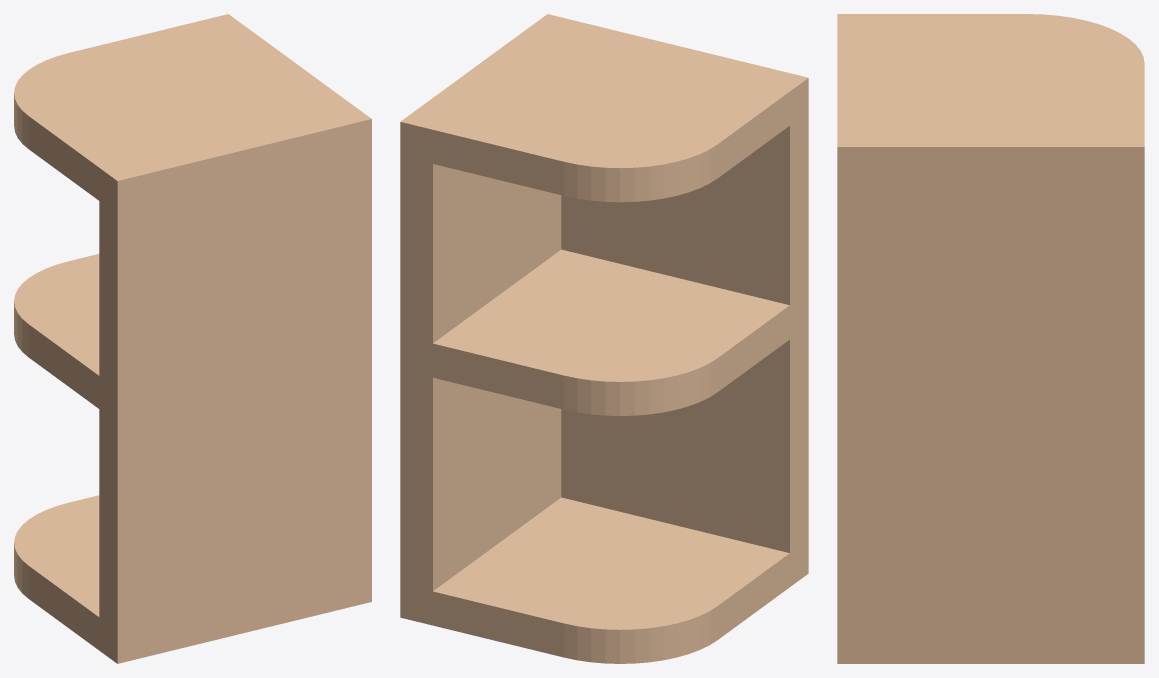
File: round-cabinet.fbx
The picture shows the model from 3 angles, left to right: view 1: azimuth 30°, elevation 25°; view 2: azimuth 150°, elevation 25°; view 3: azimuth 270°, elevation 25°; orthographic projection. The views are drawn at different scales.
Visible parts, largest first — view 1: kitchenCabinetUpperCorner; view 2: kitchenCabinetUpperCorner; view 3: kitchenCabinetUpperCorner.
Boxes of the visible parts, x1,y1,x2,y2 form: kitchenCabinetUpperCorner: (14, 14, 371, 663); kitchenCabinetUpperCorner: (400, 14, 808, 663); kitchenCabinetUpperCorner: (837, 14, 1144, 663).
Bounding box in the file's own units: 0.6988 × 1.27 × 0.6825.
